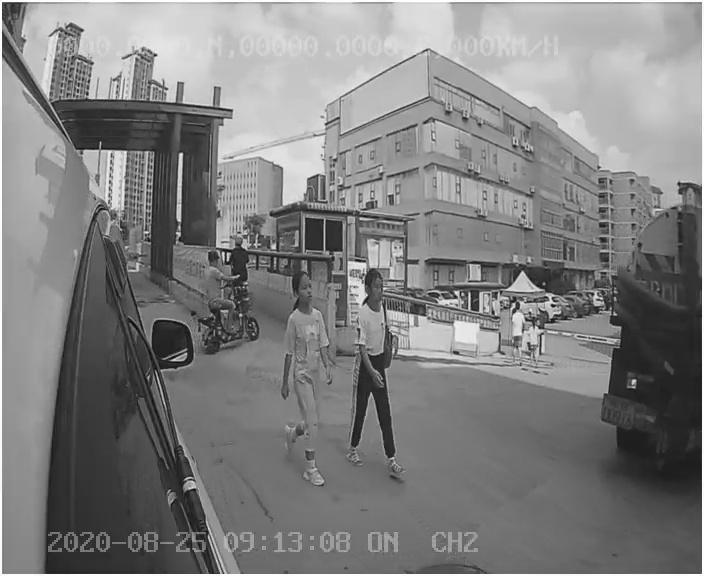person: (343, 270, 419, 491), (273, 273, 342, 493)
